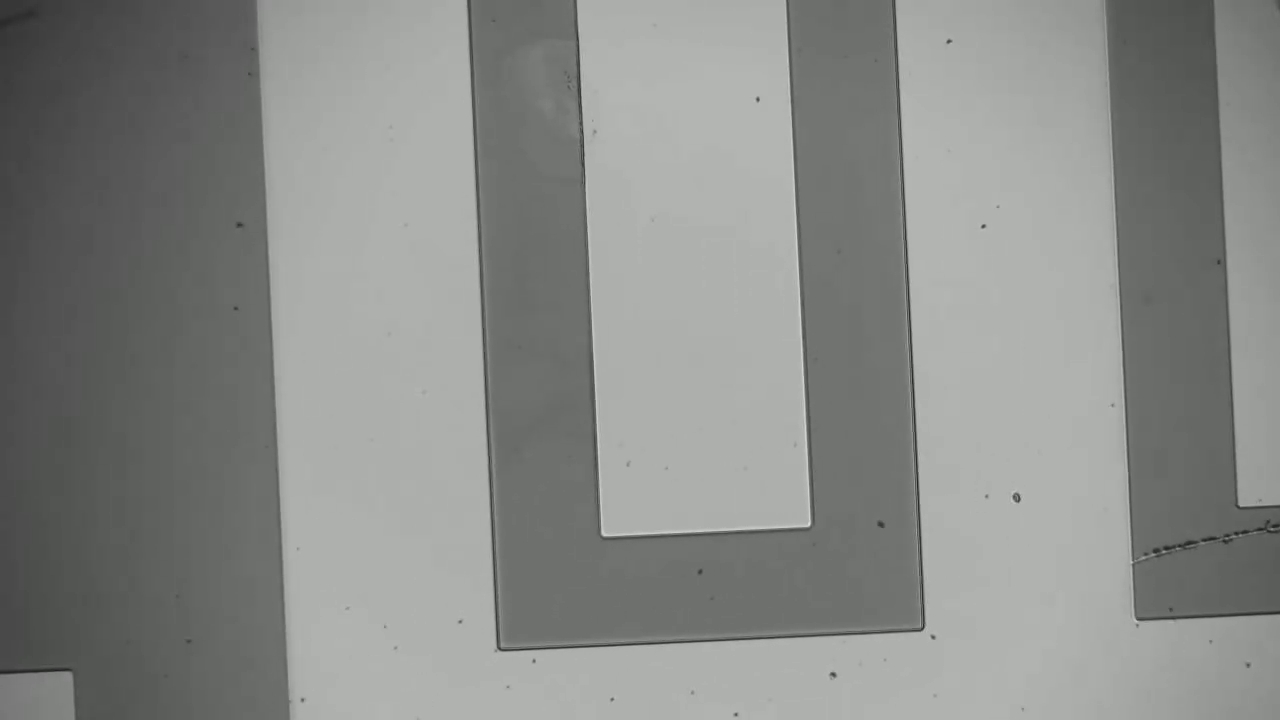scratch: (1142, 517, 1276, 569)
